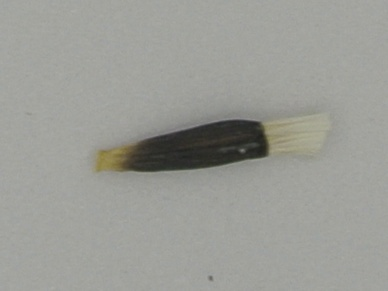เมล็ดดีติดกัน: (91, 109, 331, 176)
